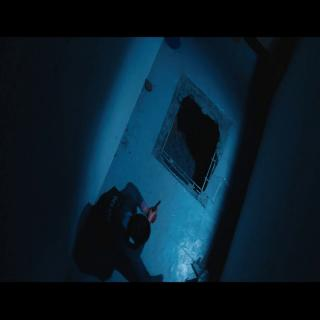gun: (149, 198, 161, 223)
